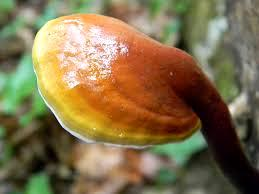Ganoderma - Fruit Body: (32, 13, 205, 144)
